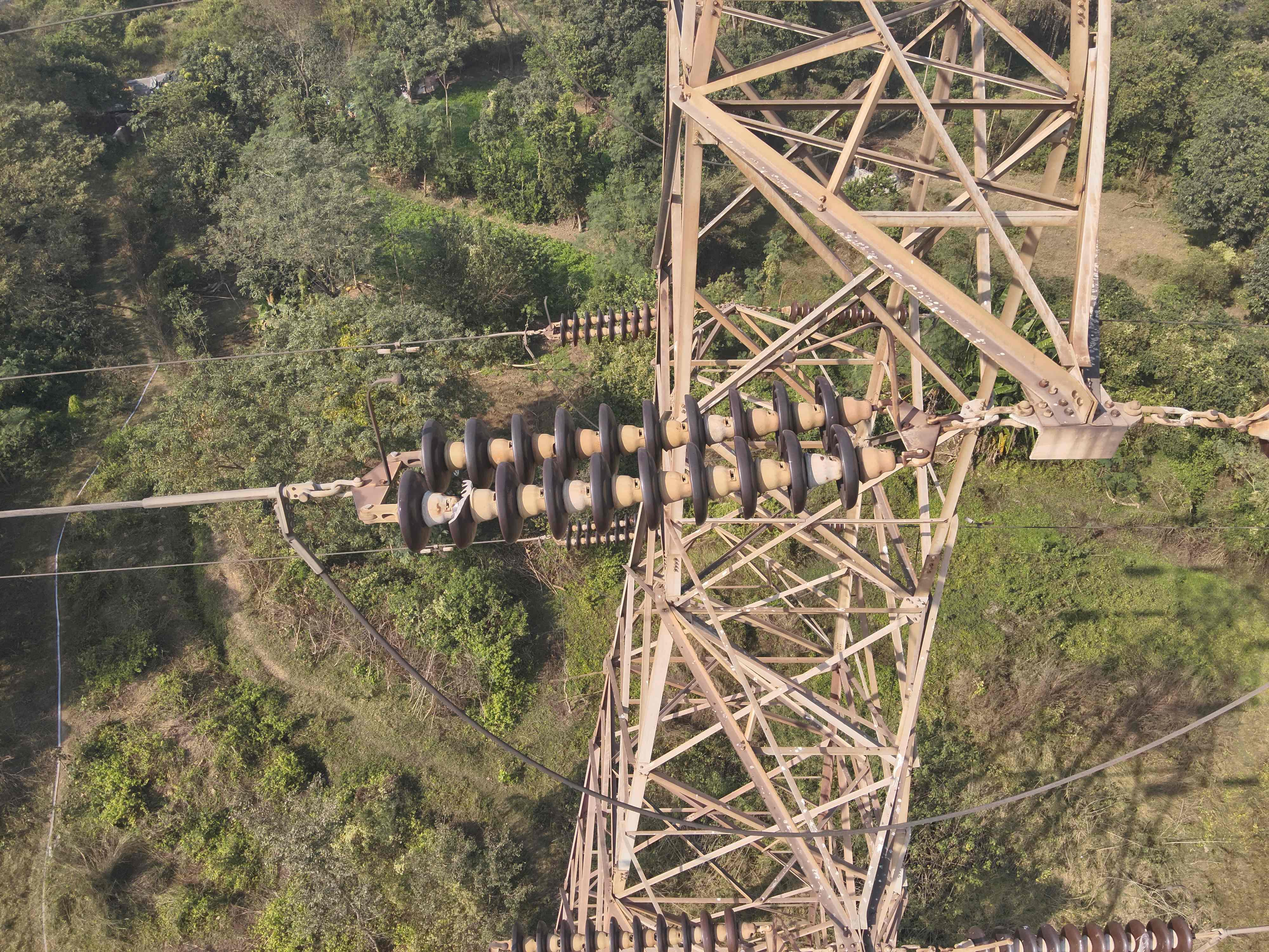broken_insulator: (438, 474, 489, 566)
